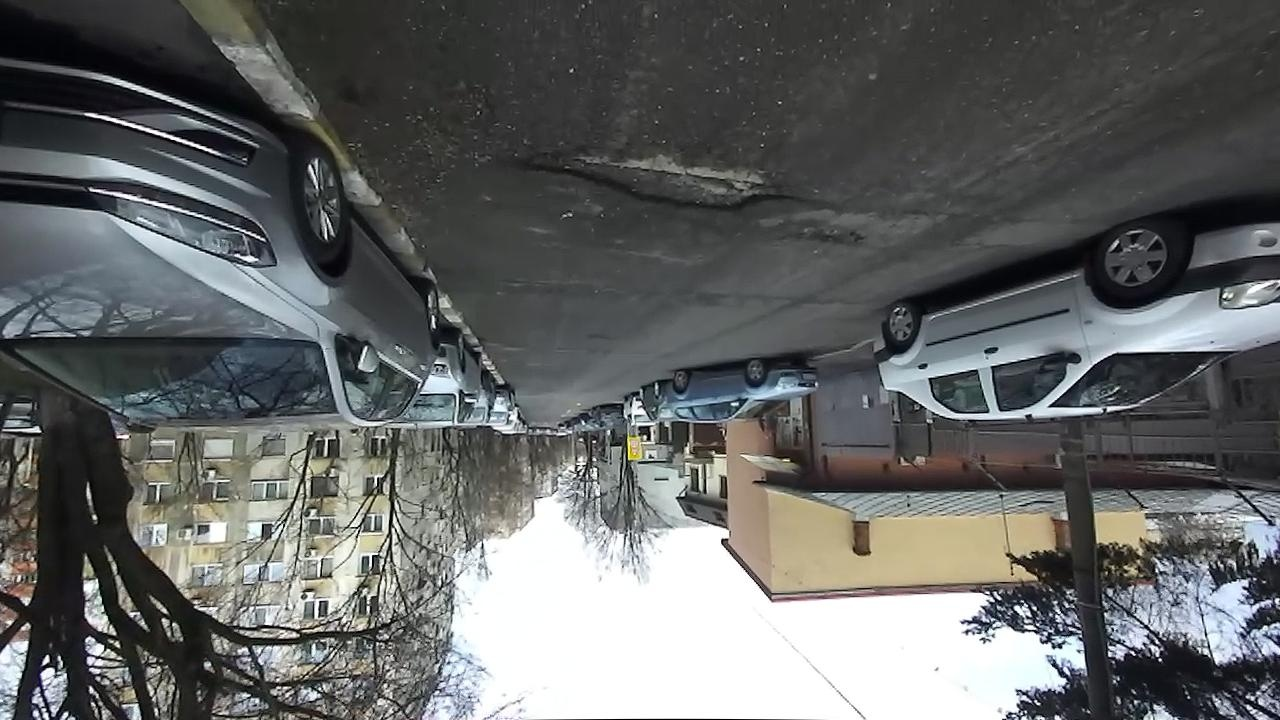pothole: (505, 140, 794, 217), (781, 222, 873, 253)
